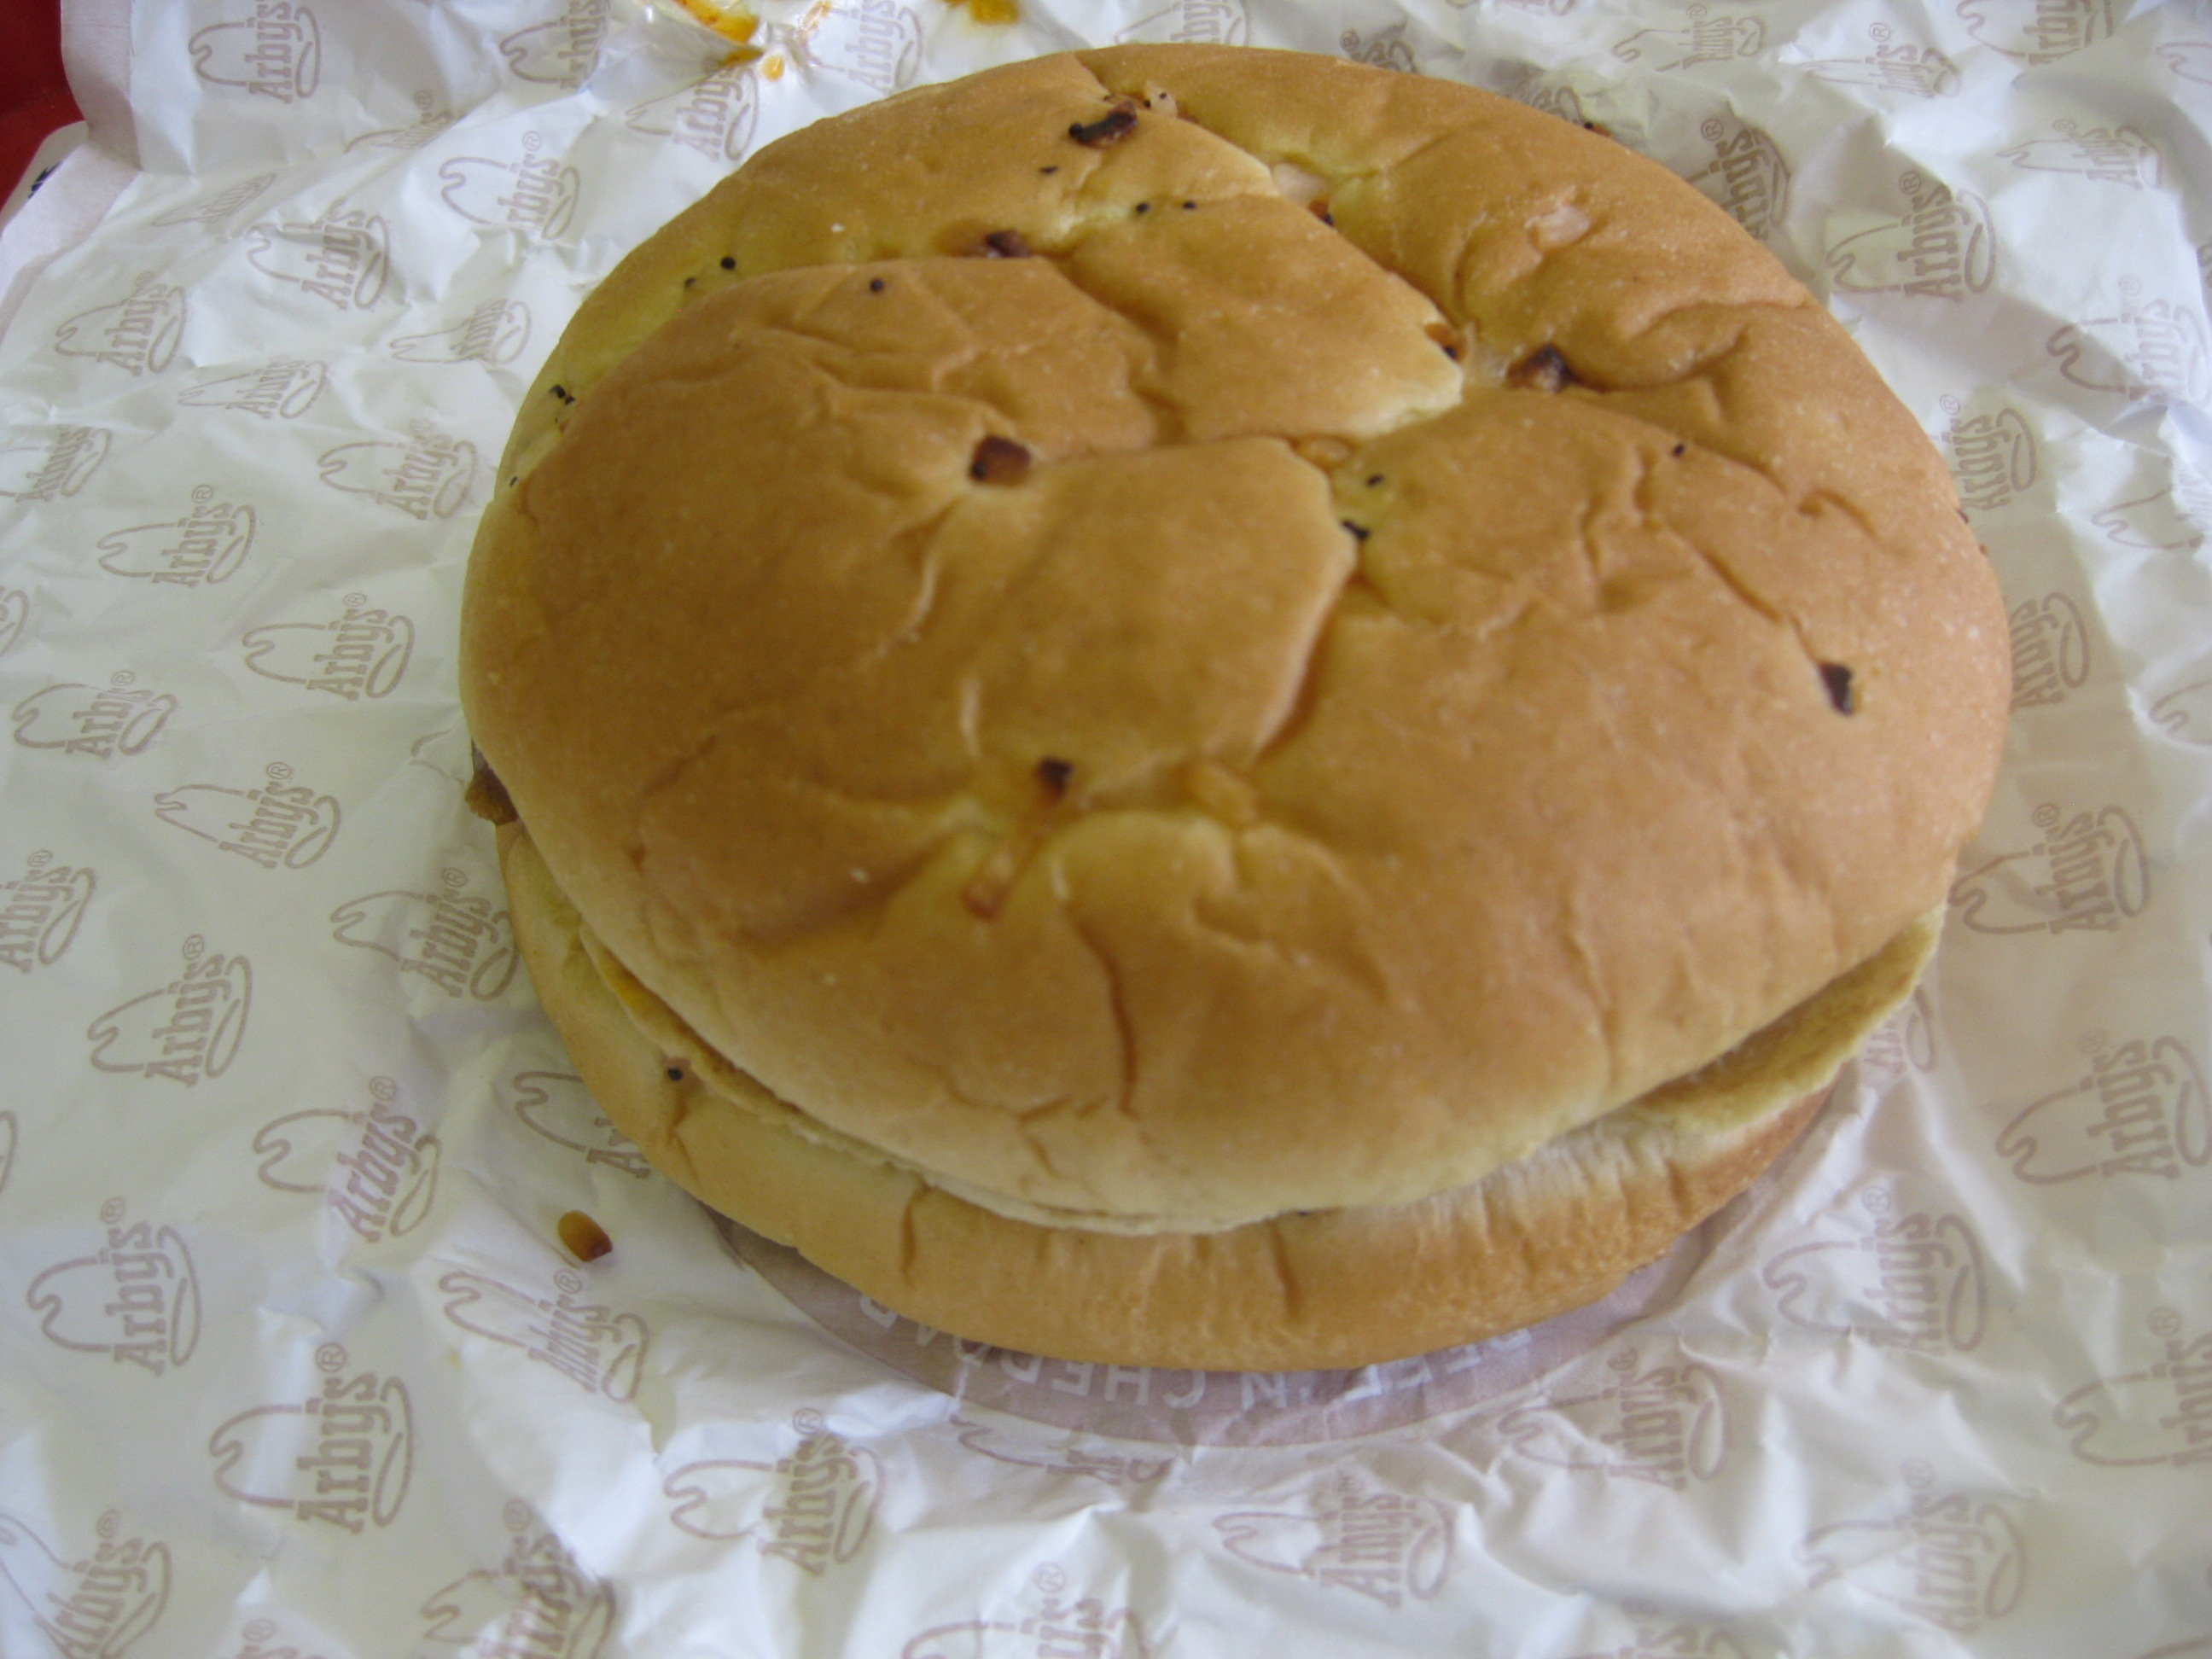burger: (456, 25, 2046, 1437)
